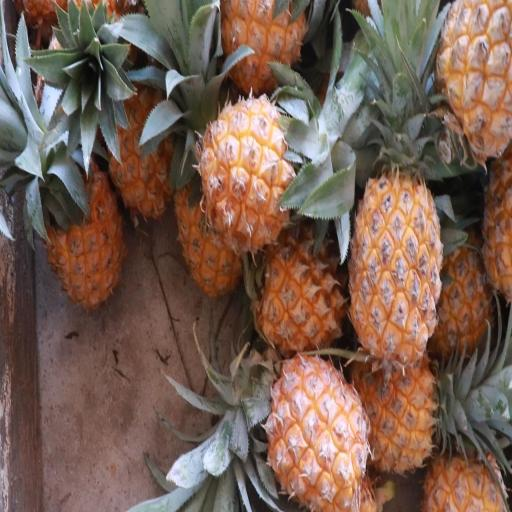Pineapple - v8 v1: (347, 142, 444, 372), (262, 339, 370, 512), (194, 92, 300, 262), (42, 136, 132, 323), (253, 220, 352, 365), (346, 325, 438, 476), (428, 0, 512, 163), (103, 59, 182, 228), (418, 372, 510, 512)
